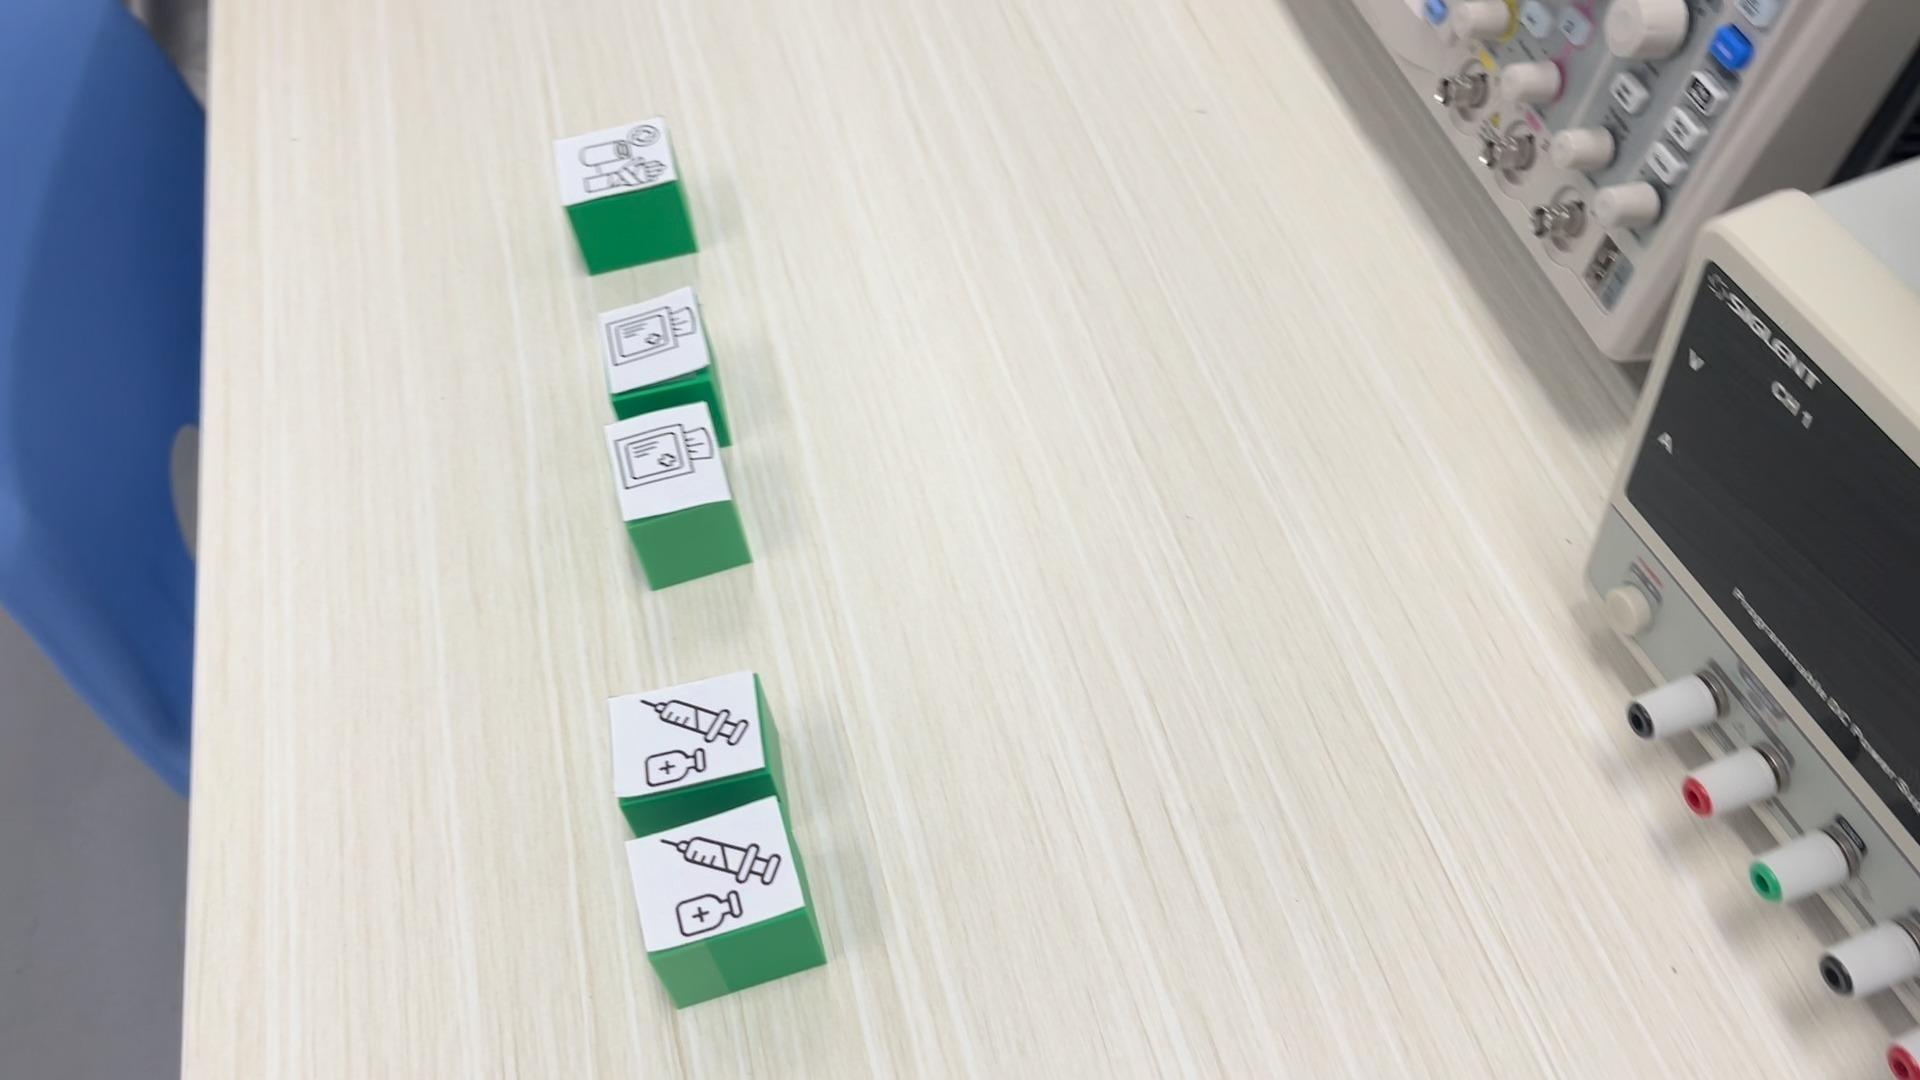Bandages: (550, 116, 699, 274)
Gauze: (607, 396, 754, 589), (597, 286, 723, 419)
antiseptic cream: (624, 796, 827, 1011), (603, 669, 787, 836)
